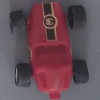rojo: (12, 4, 87, 96)
